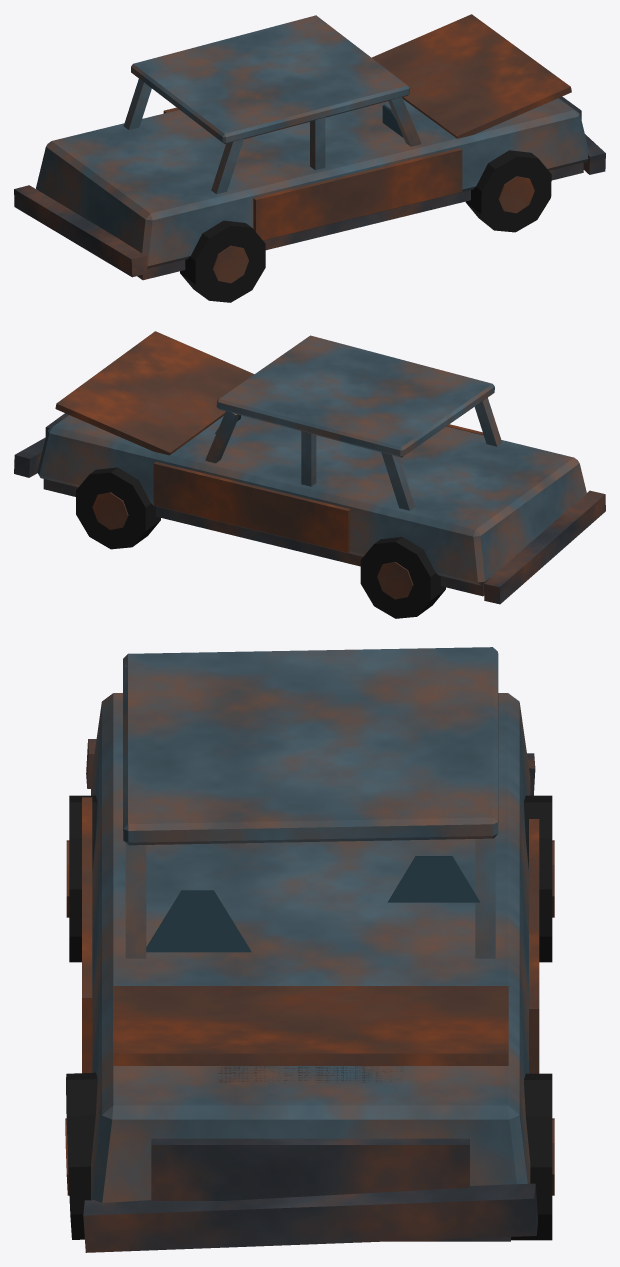
Rendered from env_wrecked_car.glb.
The picture shows the model from 3 angles, top to bottom: view 1: azimuth 30°, elevation 25°; view 2: azimuth 150°, elevation 25°; view 3: azimuth 270°, elevation 25°; orthographic projection. The views are drawn at different scales.
Visible parts, largest first — view 1: Env_wrecked_car; view 2: Env_wrecked_car; view 3: Env_wrecked_car.
Part boxes in pixels (x1=…): Env_wrecked_car: x1=14, y1=14, x2=605, y2=302; Env_wrecked_car: x1=14, y1=331, x2=605, y2=618; Env_wrecked_car: x1=65, y1=647, x2=554, y2=1252.
Size of the model in its own units: 4.36 by 1.4 by 1.91.
5 materials, 3 textured.
